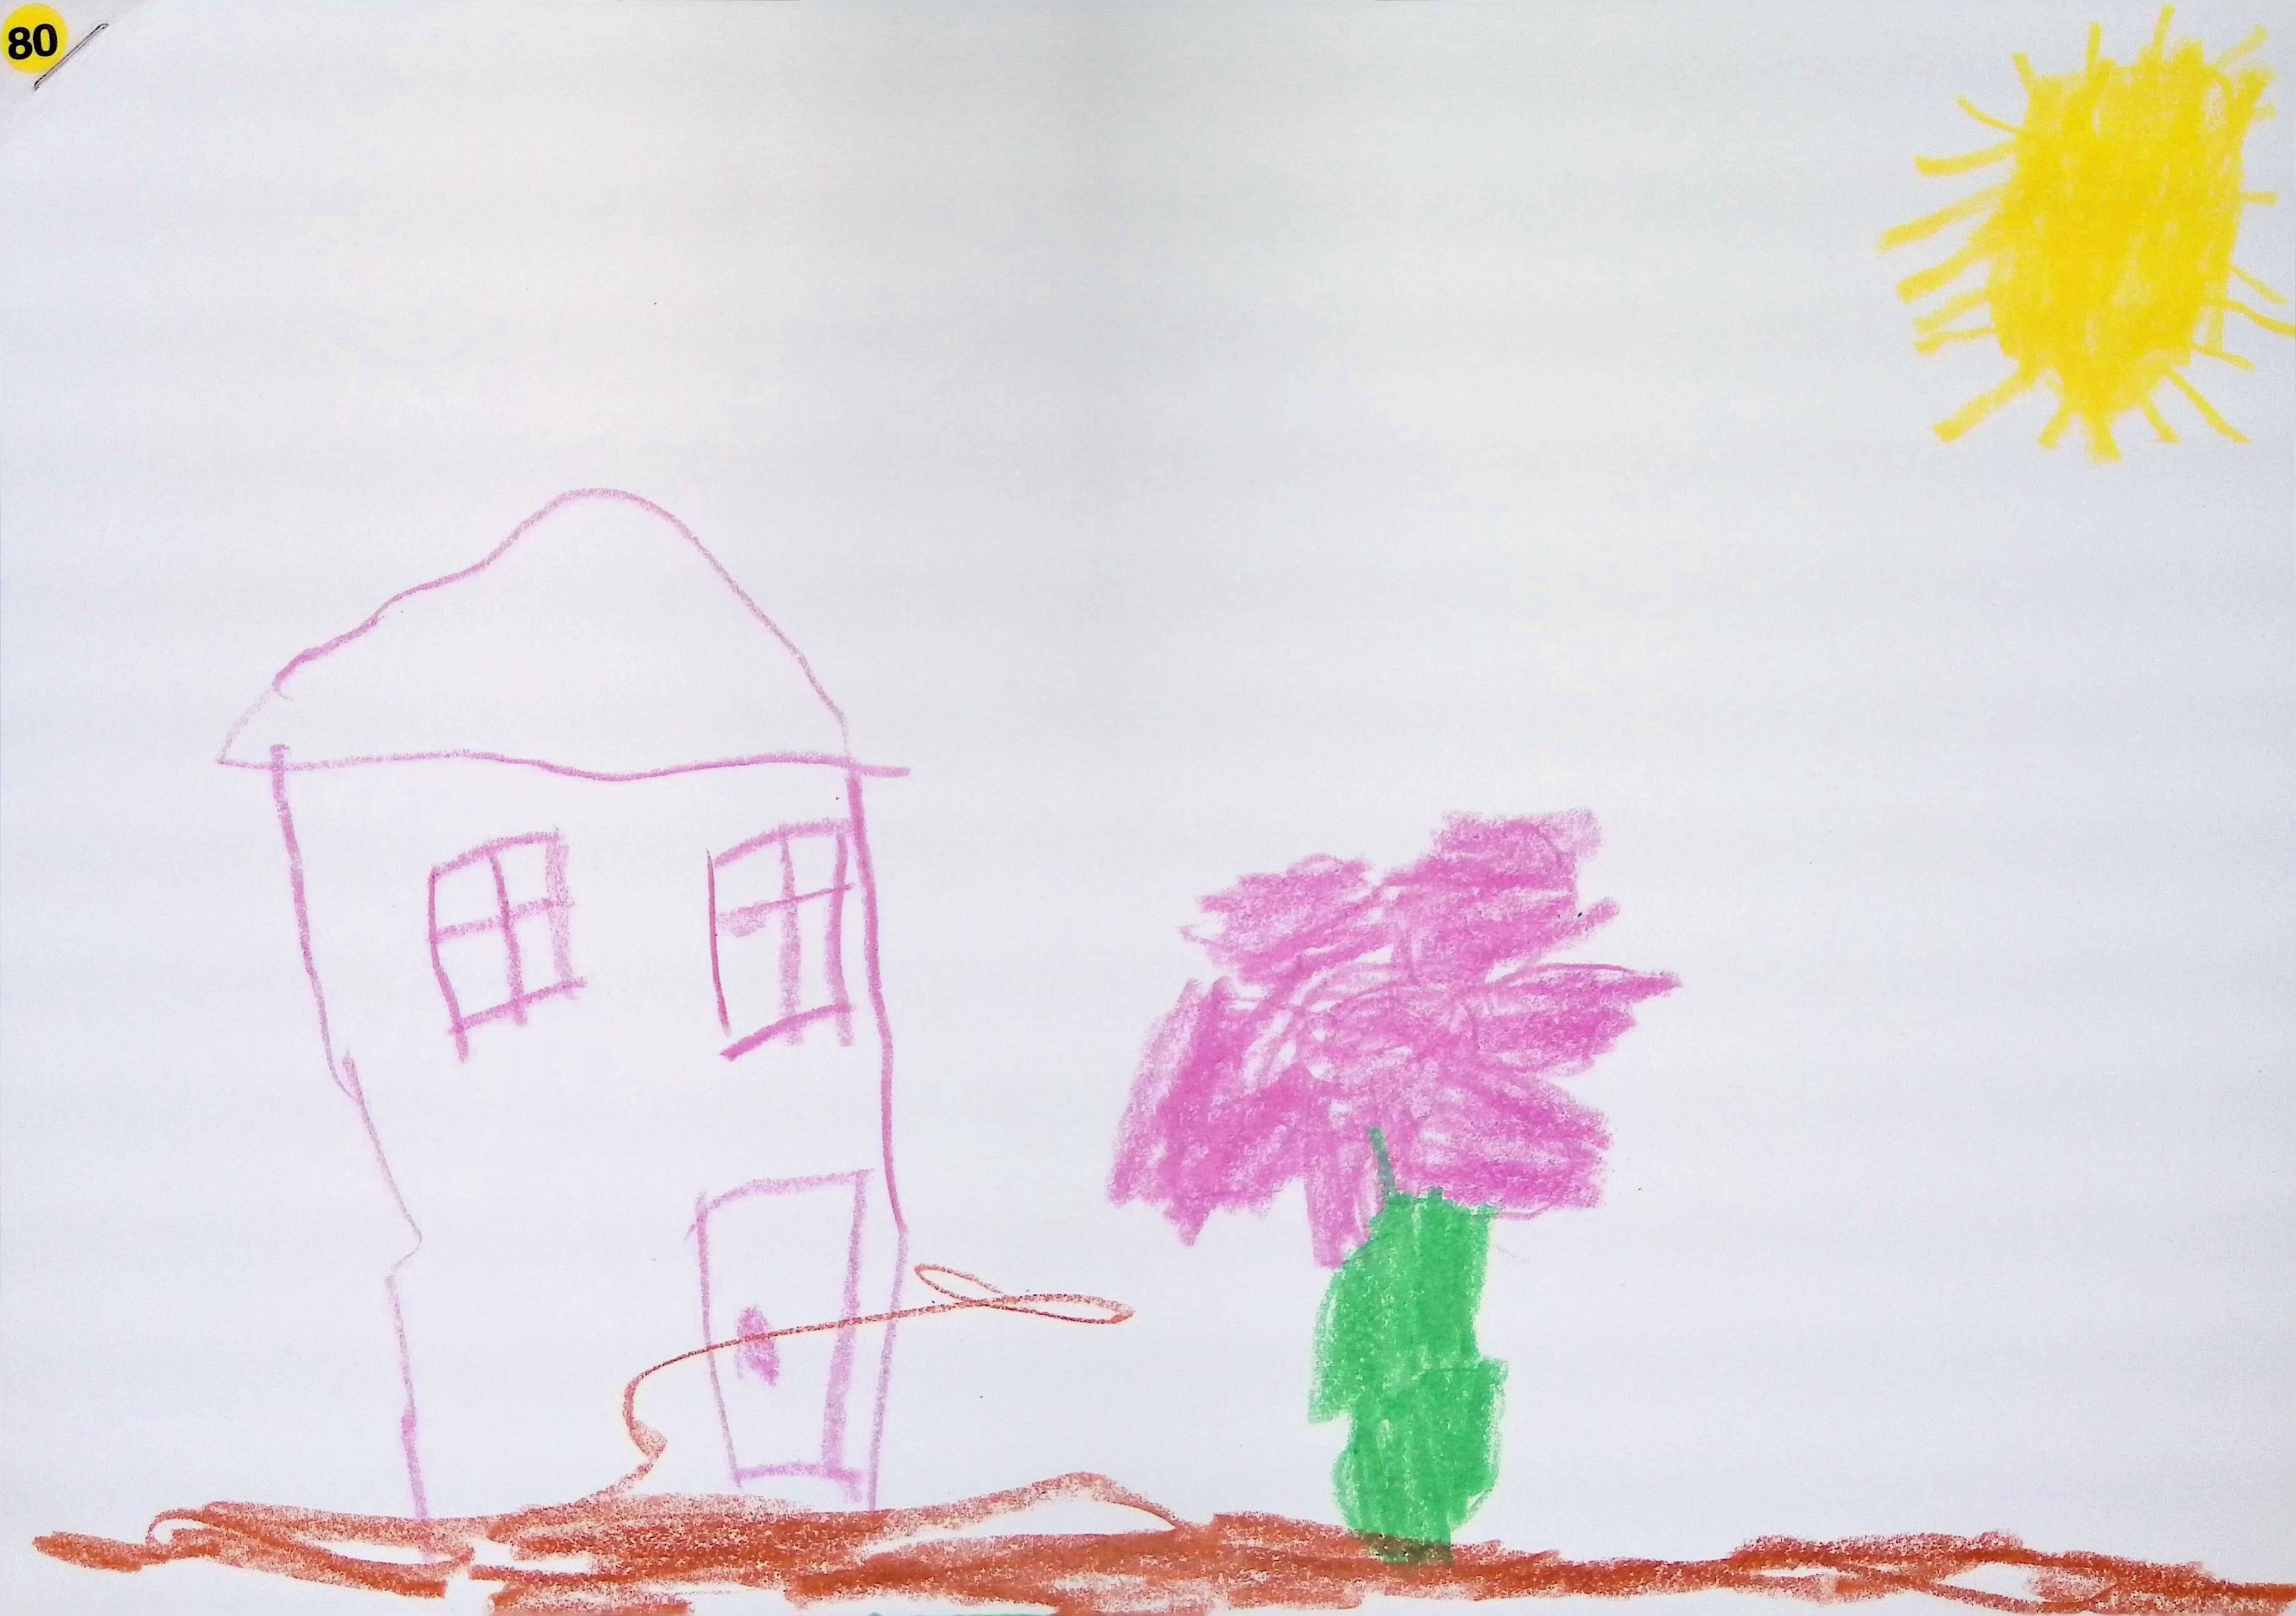door: (691, 1172, 871, 1504)
house: (219, 490, 906, 1518)
roof: (217, 488, 887, 780)
sun: (1885, 3, 2296, 460)
wall: (283, 759, 901, 1518), (706, 818, 855, 1060)
window: (427, 831, 584, 1063)
